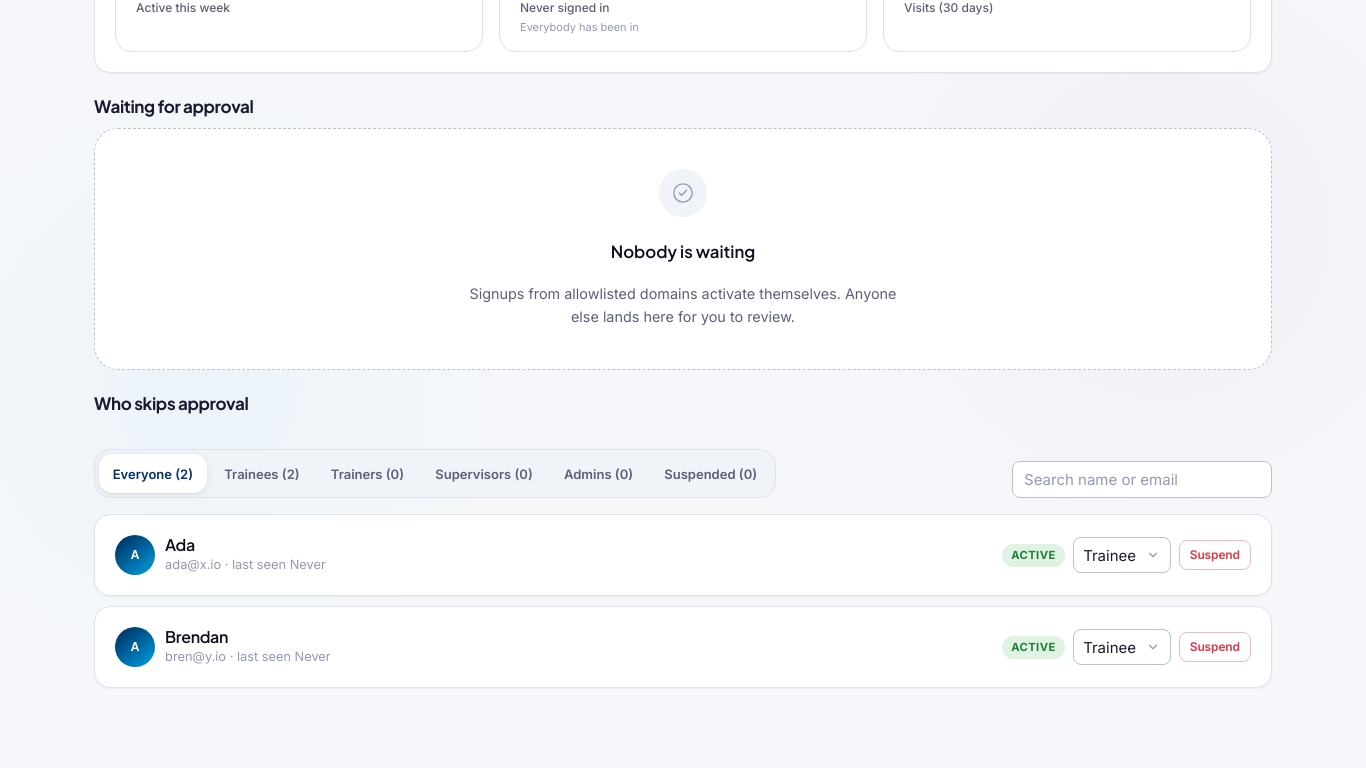
Test: the directory › searches on email as well as name
(page scrolled)
Type "bren@" into the search field named "Search users" at (1142,480), box [1012, 461, 1272, 498]
(page scrolled)
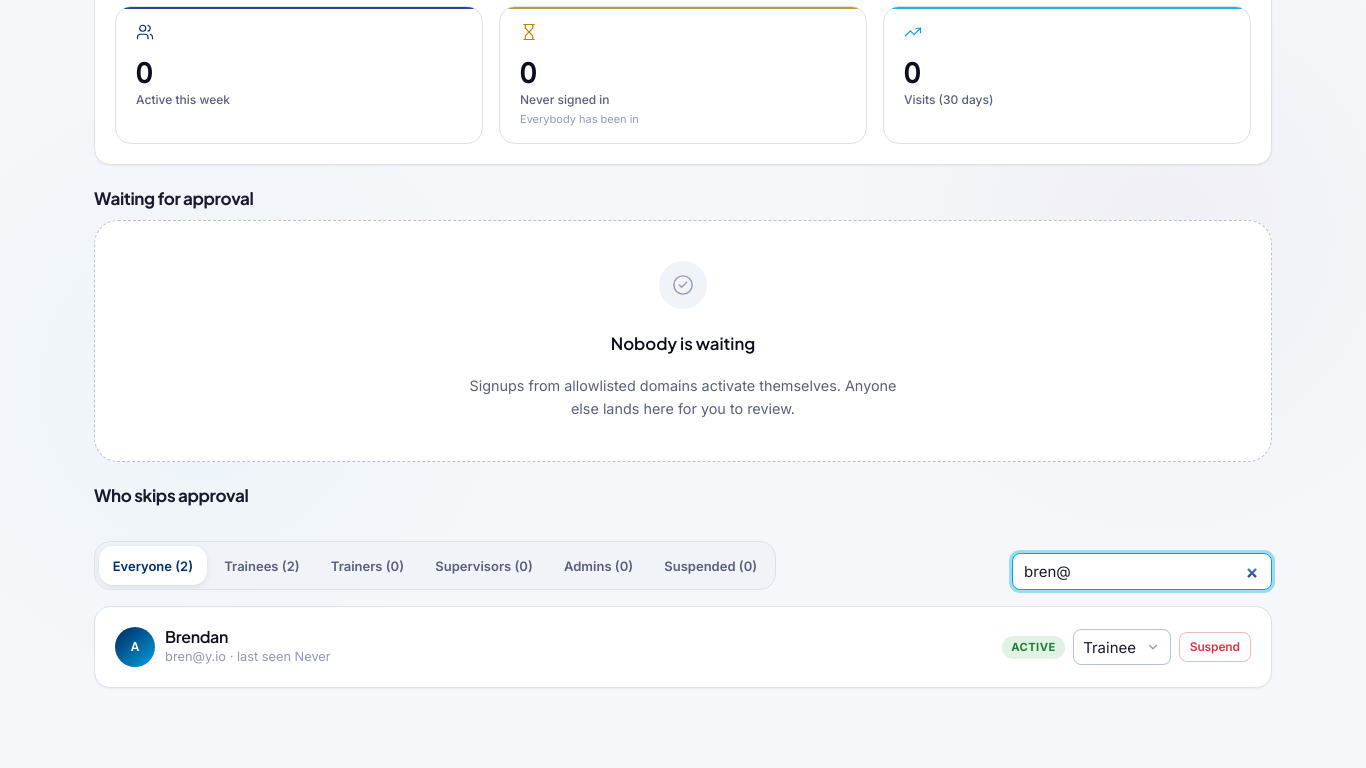
Check: the heading "Brendan" is shown, box [165, 626, 228, 647]
Check: the heading "Ada" is gone
